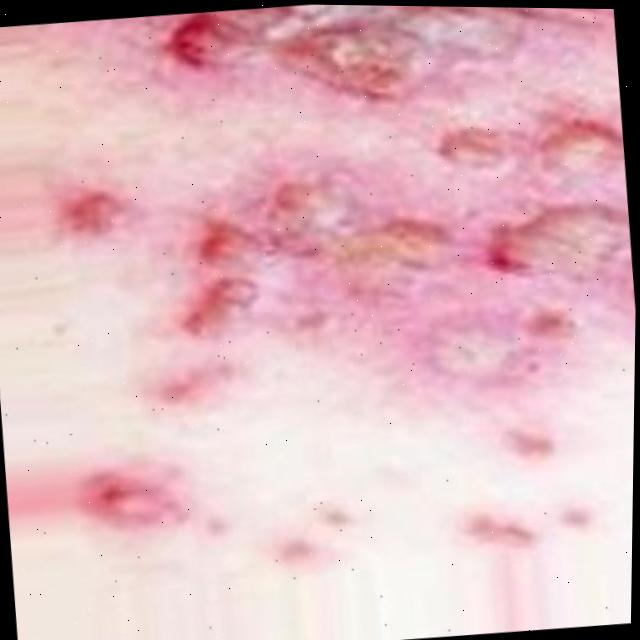Shingles: (161, 2, 640, 419), (105, 468, 176, 536), (84, 197, 129, 238)
